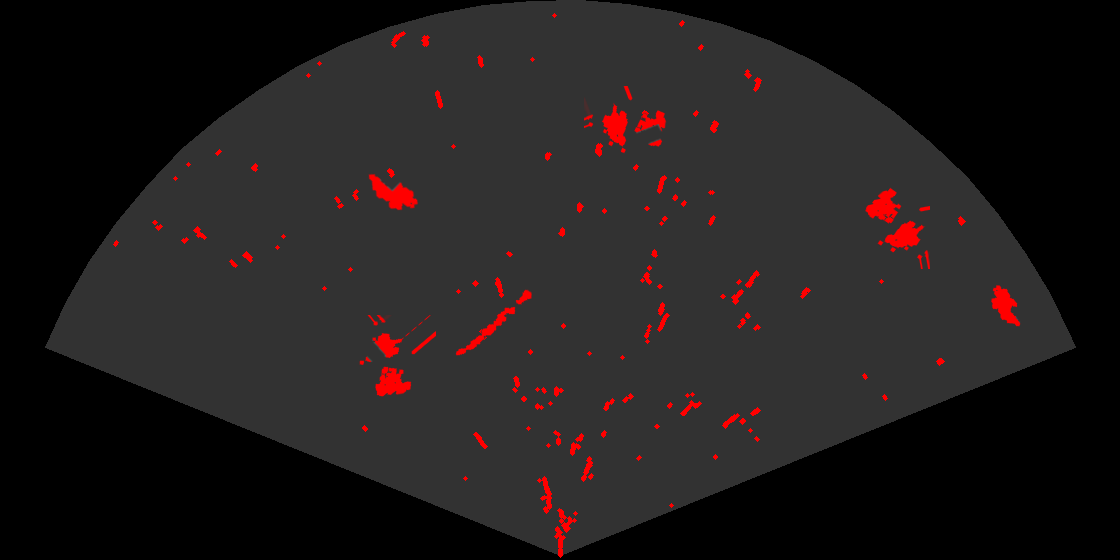AUV: (367, 172, 420, 212), (990, 284, 1022, 328)
cage: (358, 315, 436, 398), (584, 86, 668, 155), (864, 186, 930, 269)
chain: (454, 288, 533, 357)
